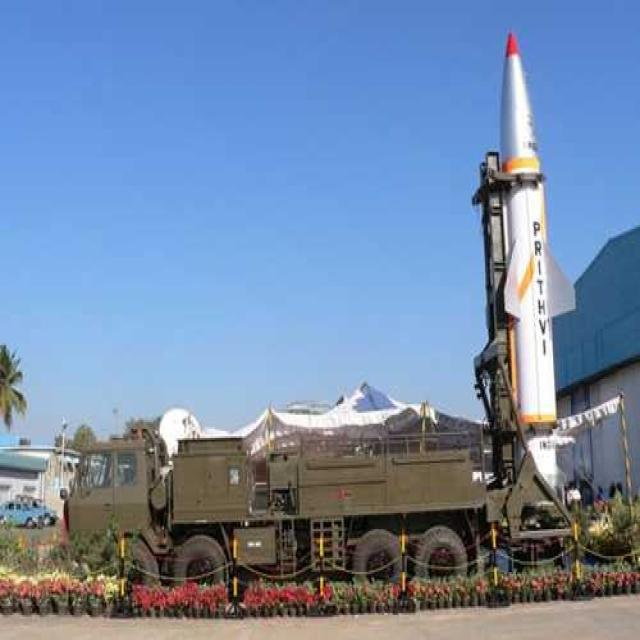missile: (498, 31, 572, 518)
